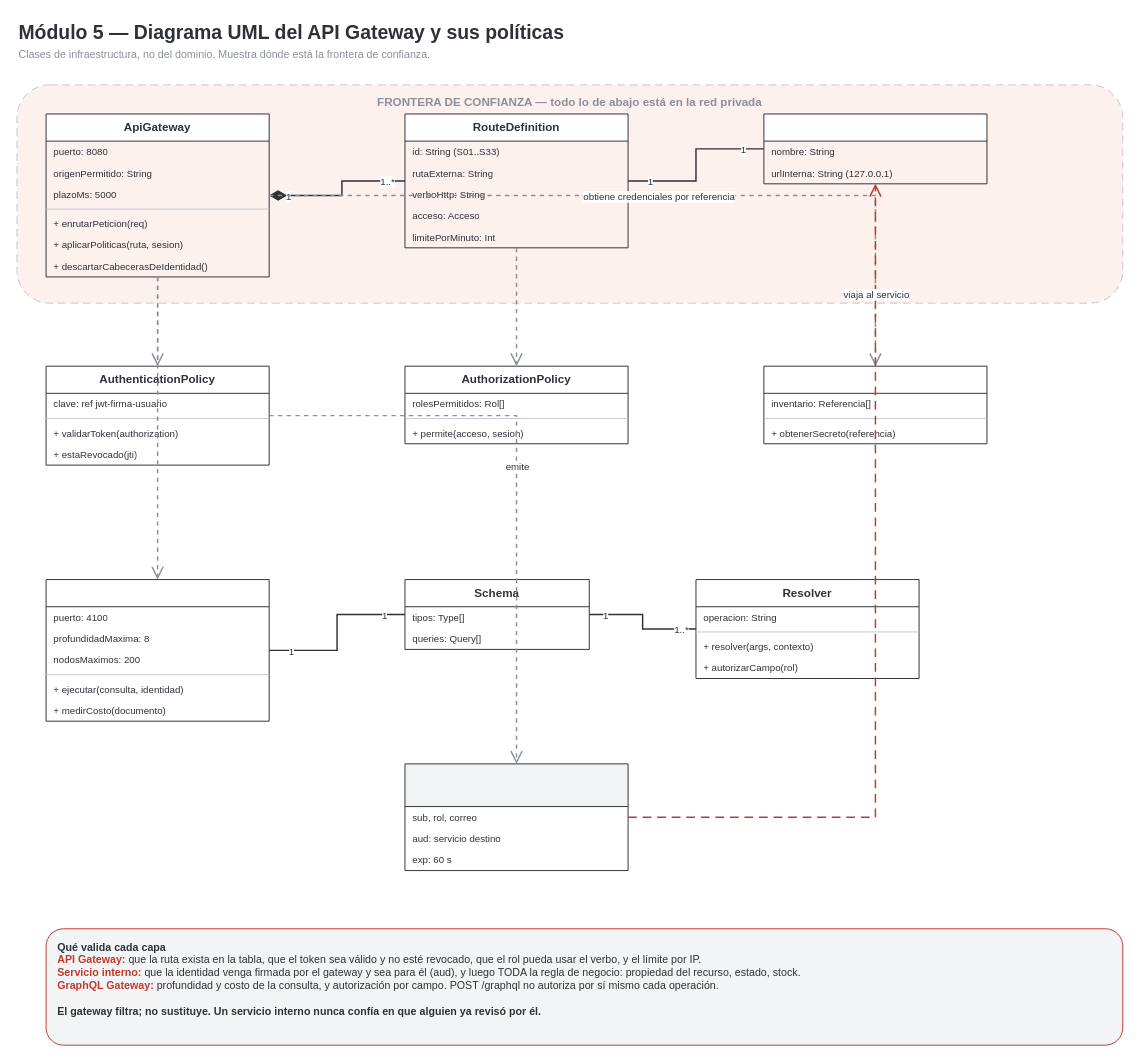
Some shapes in this 1140 by 1062 pixel diagram are drawn without their labels. Each missing label, with the box of its shape:
GraphQLGateway: (45, 579, 269, 721)
SecretProvider: (763, 365, 987, 444)
ServiceTarget: (763, 113, 987, 184)
«token firmado» IdentidadInterna: (404, 763, 628, 871)
